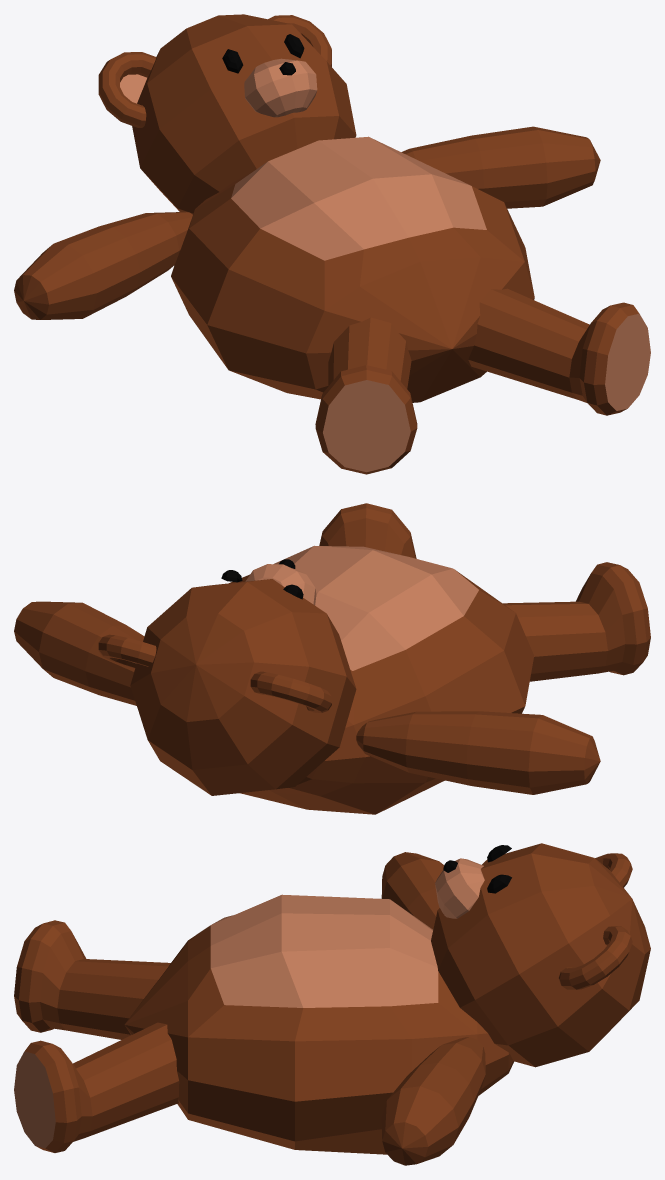
The model's file is OrsachiottoSdraiatoNormale.fbx.
3 views of the same model, one above another, from view 1: azimuth 30°, elevation 25°; view 2: azimuth 150°, elevation 25°; view 3: azimuth 270°, elevation 25° (orthographic).
Visible parts, largest first — view 1: Cylinder.025; view 2: Cylinder.025; view 3: Cylinder.025.
Boxes of the visible parts, bbox=[...] form: Cylinder.025: bbox=[14, 14, 650, 474]; Cylinder.025: bbox=[14, 503, 650, 814]; Cylinder.025: bbox=[14, 843, 650, 1165].
Size of the model in its own units: 83.33 by 37.52 by 80.36.
